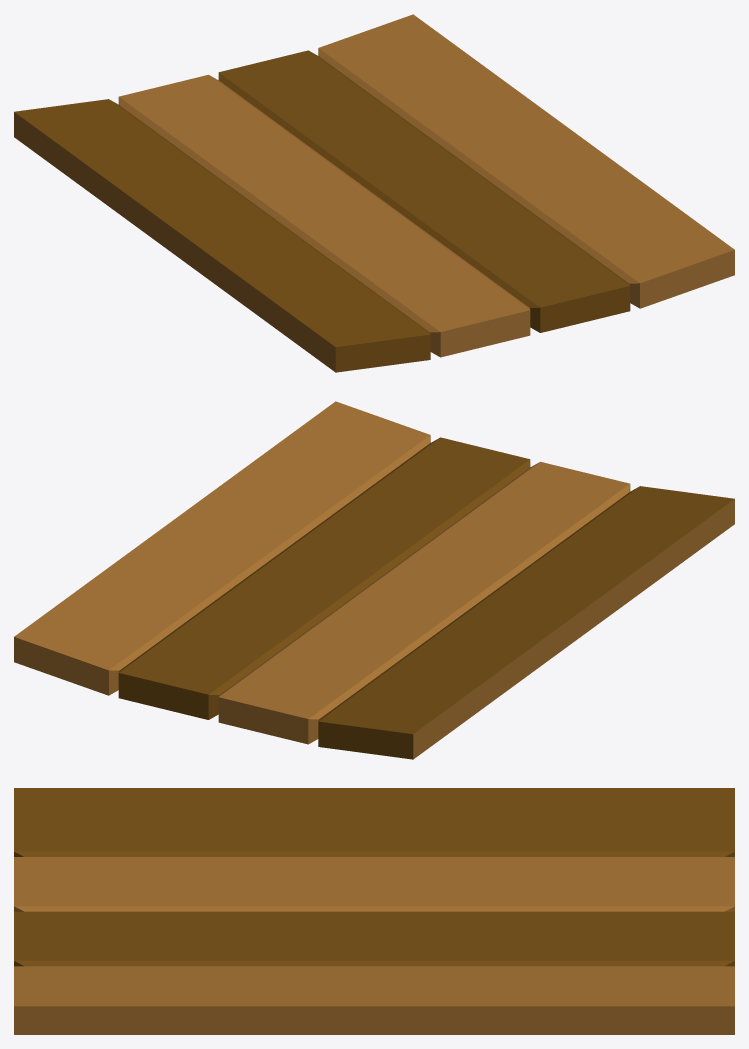
Rendered from Pont.fbx.
The picture shows the model from 3 angles, top to bottom: view 1: azimuth 30°, elevation 25°; view 2: azimuth 150°, elevation 25°; view 3: azimuth 270°, elevation 25°; orthographic projection. The views are drawn at different scales.
Visible parts, largest first — view 1: Pont; view 2: Pont; view 3: Pont.
Part boxes in pixels (left/top/right/bottom): Pont: left=14, top=14, right=734, bottom=372; Pont: left=14, top=401, right=734, bottom=759; Pont: left=14, top=788, right=734, bottom=1034.
Size of the model in its own units: 20 by 1.72 by 27.91.
